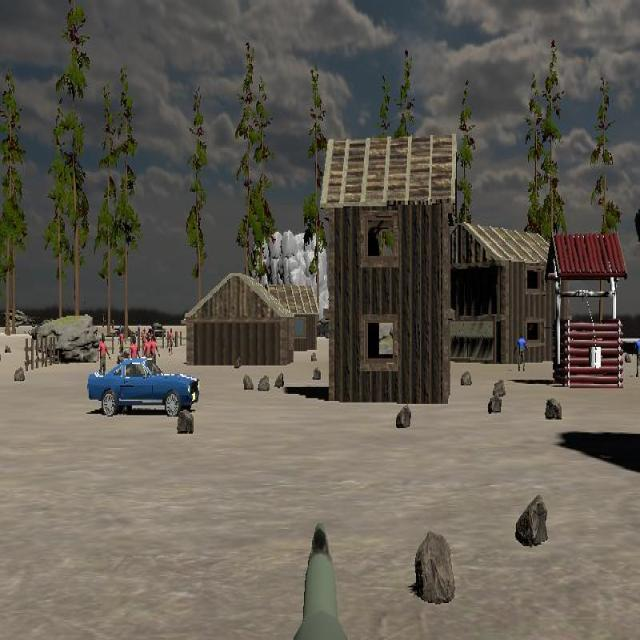Human: (97, 334, 111, 379), (514, 332, 529, 372), (633, 333, 640, 379)
car: (87, 356, 201, 418)
